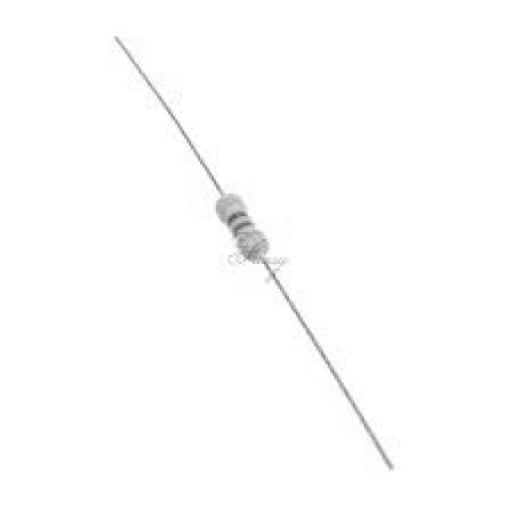RESISTOR: (151, 167, 313, 304)
